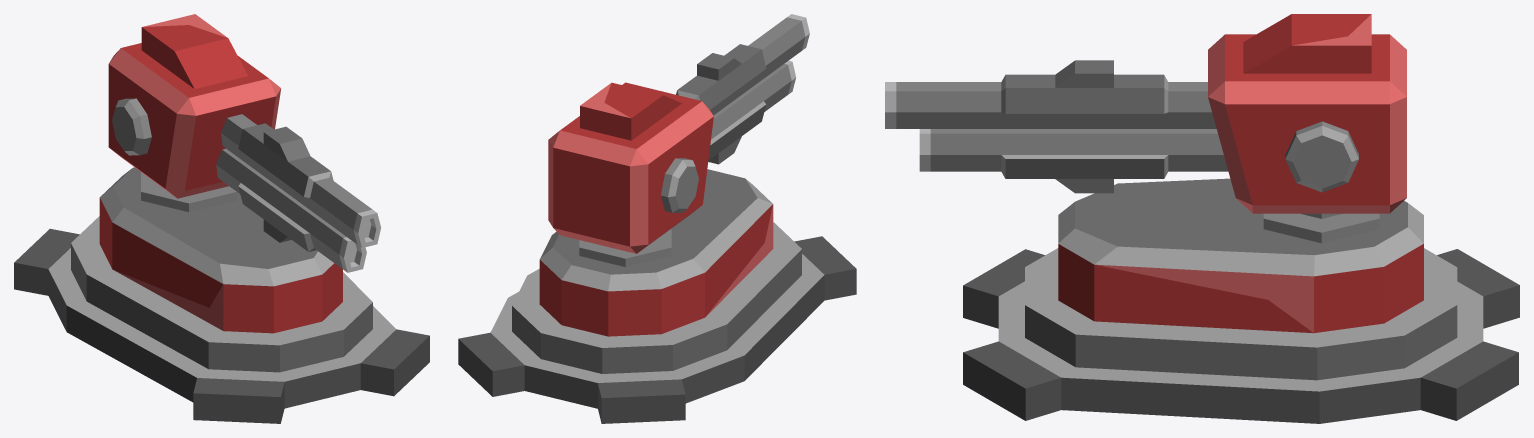
Rendered from tower_lethal_red_2.fbx.
3 views of the same model, side by side, from view 1: azimuth 30°, elevation 25°; view 2: azimuth 150°, elevation 25°; view 3: azimuth 270°, elevation 25° (orthographic). The views are drawn at different scales.
Parts seen in each view (by area): view 1: tower_lethal_red_2, top_lethal_red_2; view 2: tower_lethal_red_2, top_lethal_red_2; view 3: tower_lethal_red_2, top_lethal_red_2.
Boxes of the visible parts, left/top/right/bottom form: tower_lethal_red_2: left=14, top=167, right=429, bottom=423; top_lethal_red_2: left=108, top=14, right=381, bottom=272; tower_lethal_red_2: left=458, top=169, right=856, bottom=423; top_lethal_red_2: left=548, top=14, right=809, bottom=266; tower_lethal_red_2: left=963, top=178, right=1519, bottom=423; top_lethal_red_2: left=885, top=14, right=1406, bottom=243.
Size of the model in its own units: 124 by 128 by 229.
